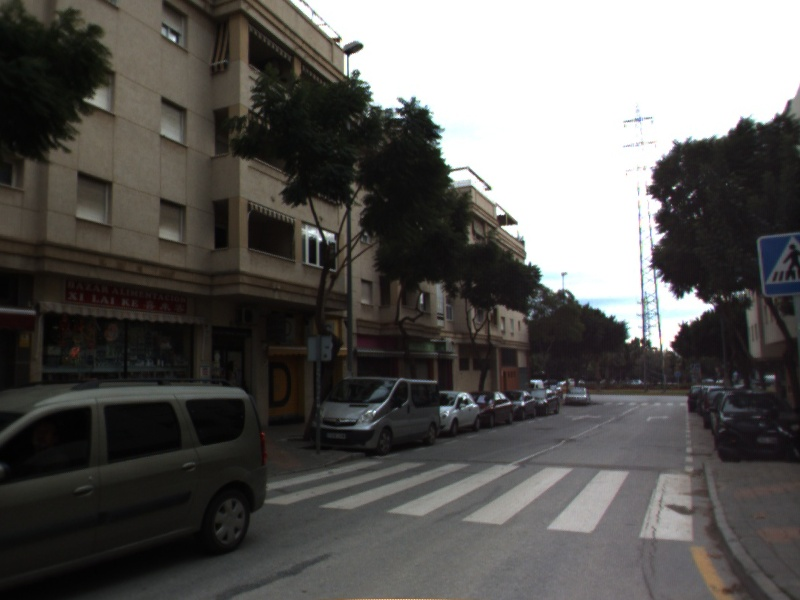RIGHT: (644, 413, 672, 423)
